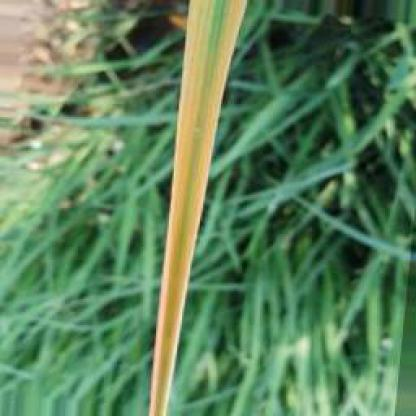Tungro: (146, 3, 255, 416)
